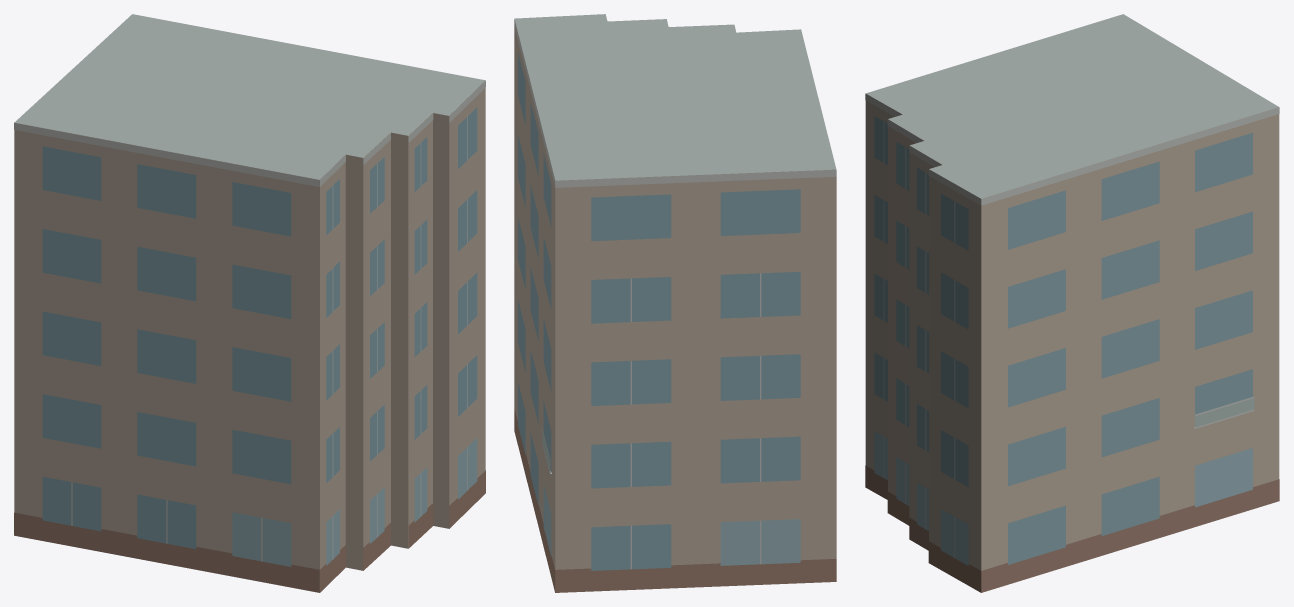
File: survey-upis-32989775.glb
The picture shows the model from 3 angles, left to right: view 1: azimuth 30°, elevation 25°; view 2: azimuth 150°, elevation 25°; view 3: azimuth 270°, elevation 25°; orthographic projection. The views are drawn at different scales.
Visible parts, largest first — view 1: survey-upis-32989775.tmp; view 2: survey-upis-32989775.tmp; view 3: survey-upis-32989775.tmp.
Part boxes in pixels (x1,y1,x2,y2): survey-upis-32989775.tmp: [14, 14, 485, 592]; survey-upis-32989775.tmp: [514, 14, 836, 592]; survey-upis-32989775.tmp: [865, 14, 1279, 592].
Size of the model in its own units: 14.2 by 14.1 by 13.43.
